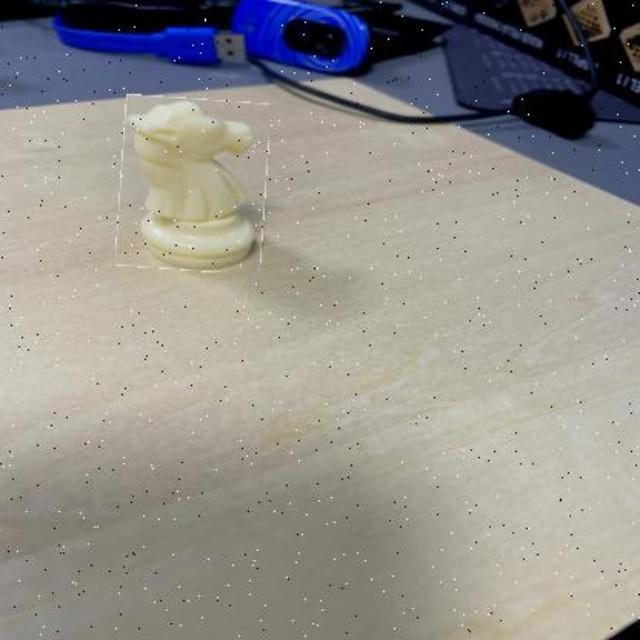white-knight: (119, 96, 269, 271)
